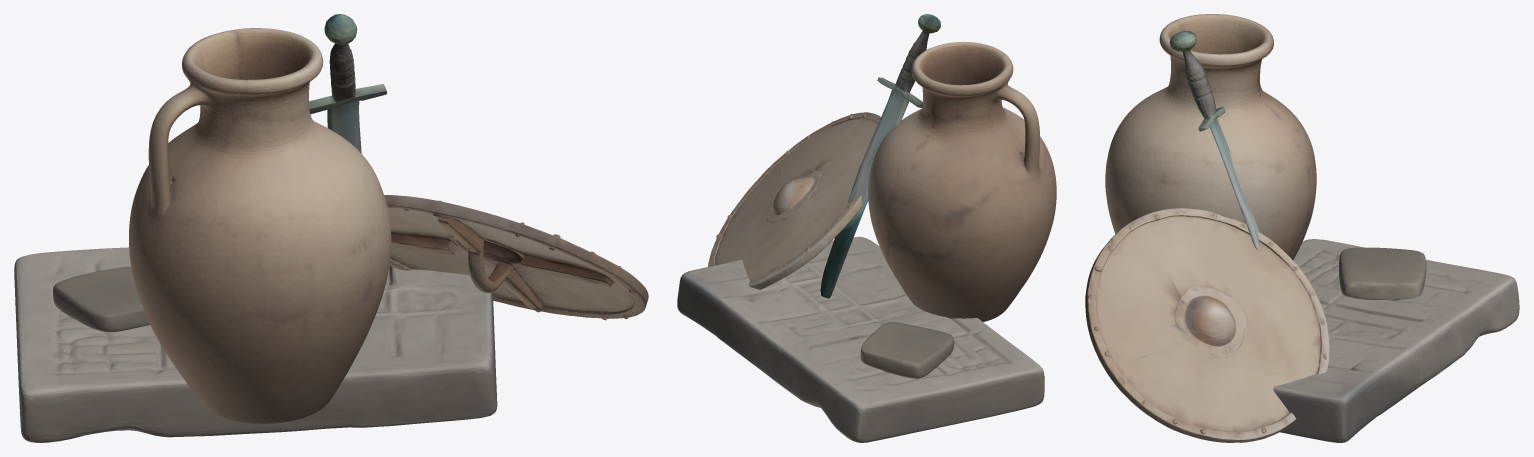
The model's file is sam3d.glb.
3 renders of one model, left to right at view 1: azimuth 30°, elevation 25°; view 2: azimuth 150°, elevation 25°; view 3: azimuth 270°, elevation 25°, orthographic. The views are drawn at different scales.
Visible parts, largest first — view 1: object_04, object_03, object_02, object_00, object_01; view 2: object_04, object_03, object_02, object_01, object_00; view 3: object_02, object_04, object_03, object_00, object_01.
Boxes of the visible parts, x1=… form: object_04: x1=129, y1=28, x2=391, y2=423; object_03: x1=14, y1=247, x2=497, y2=442; object_02: x1=384, y1=195, x2=648, y2=320; object_00: x1=53, y1=266, x2=149, y2=332; object_01: x1=309, y1=14, x2=387, y2=153; object_04: x1=868, y1=42, x2=1056, y2=321; object_03: x1=677, y1=236, x2=1044, y2=442; object_02: x1=708, y1=112, x2=880, y2=289; object_01: x1=820, y1=14, x2=940, y2=298; object_00: x1=860, y1=322, x2=954, y2=378; object_02: x1=1085, y1=208, x2=1329, y2=442; object_04: x1=1105, y1=14, x2=1316, y2=259; object_03: x1=1273, y1=239, x2=1519, y2=442; object_00: x1=1339, y1=247, x2=1426, y2=300; object_01: x1=1169, y1=31, x2=1259, y2=249.
Bounding box in the file's own units: 0.7043 × 0.5467 × 0.636.
